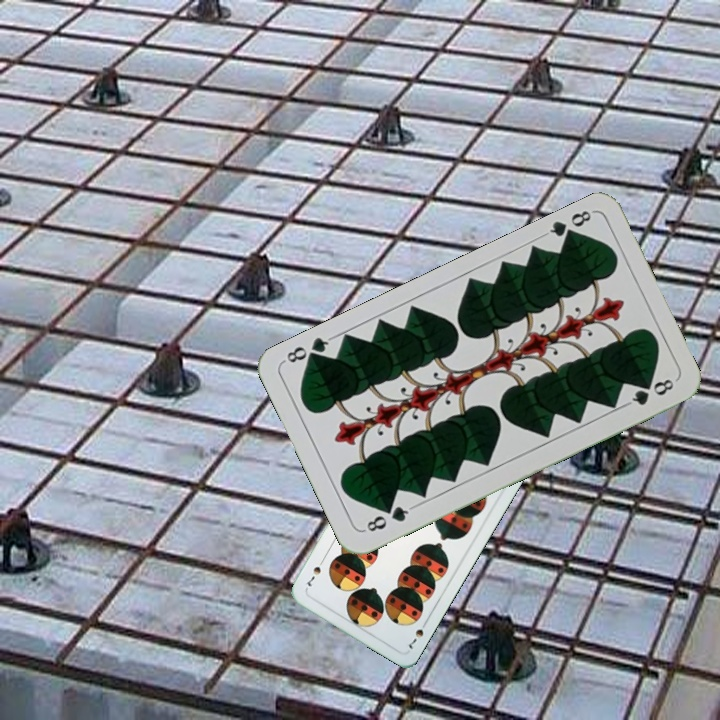G8: (540, 206, 596, 245), (360, 502, 415, 535)
S7: (404, 616, 430, 652)
